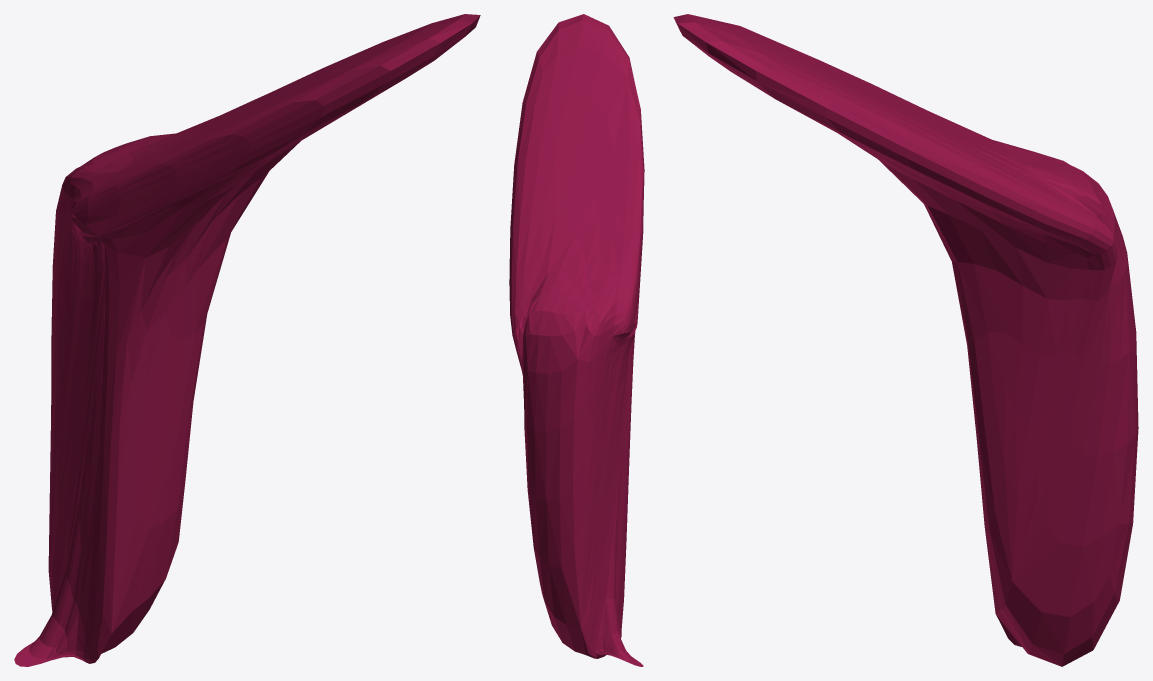
3 views of the same model, side by side, from view 1: azimuth 30°, elevation 25°; view 2: azimuth 150°, elevation 25°; view 3: azimuth 270°, elevation 25° (orthographic). The views are drawn at different scales.
Visible parts, largest first — view 1: 495_Cube.2005; view 2: 495_Cube.2005; view 3: 495_Cube.2005.
Part boxes in pixels (x1,y1,x2,y2): 495_Cube.2005: (14, 14, 480, 666); 495_Cube.2005: (509, 14, 644, 666); 495_Cube.2005: (673, 14, 1138, 666).
Size of the model in its own units: 7.48 by 17.13 by 9.81.
